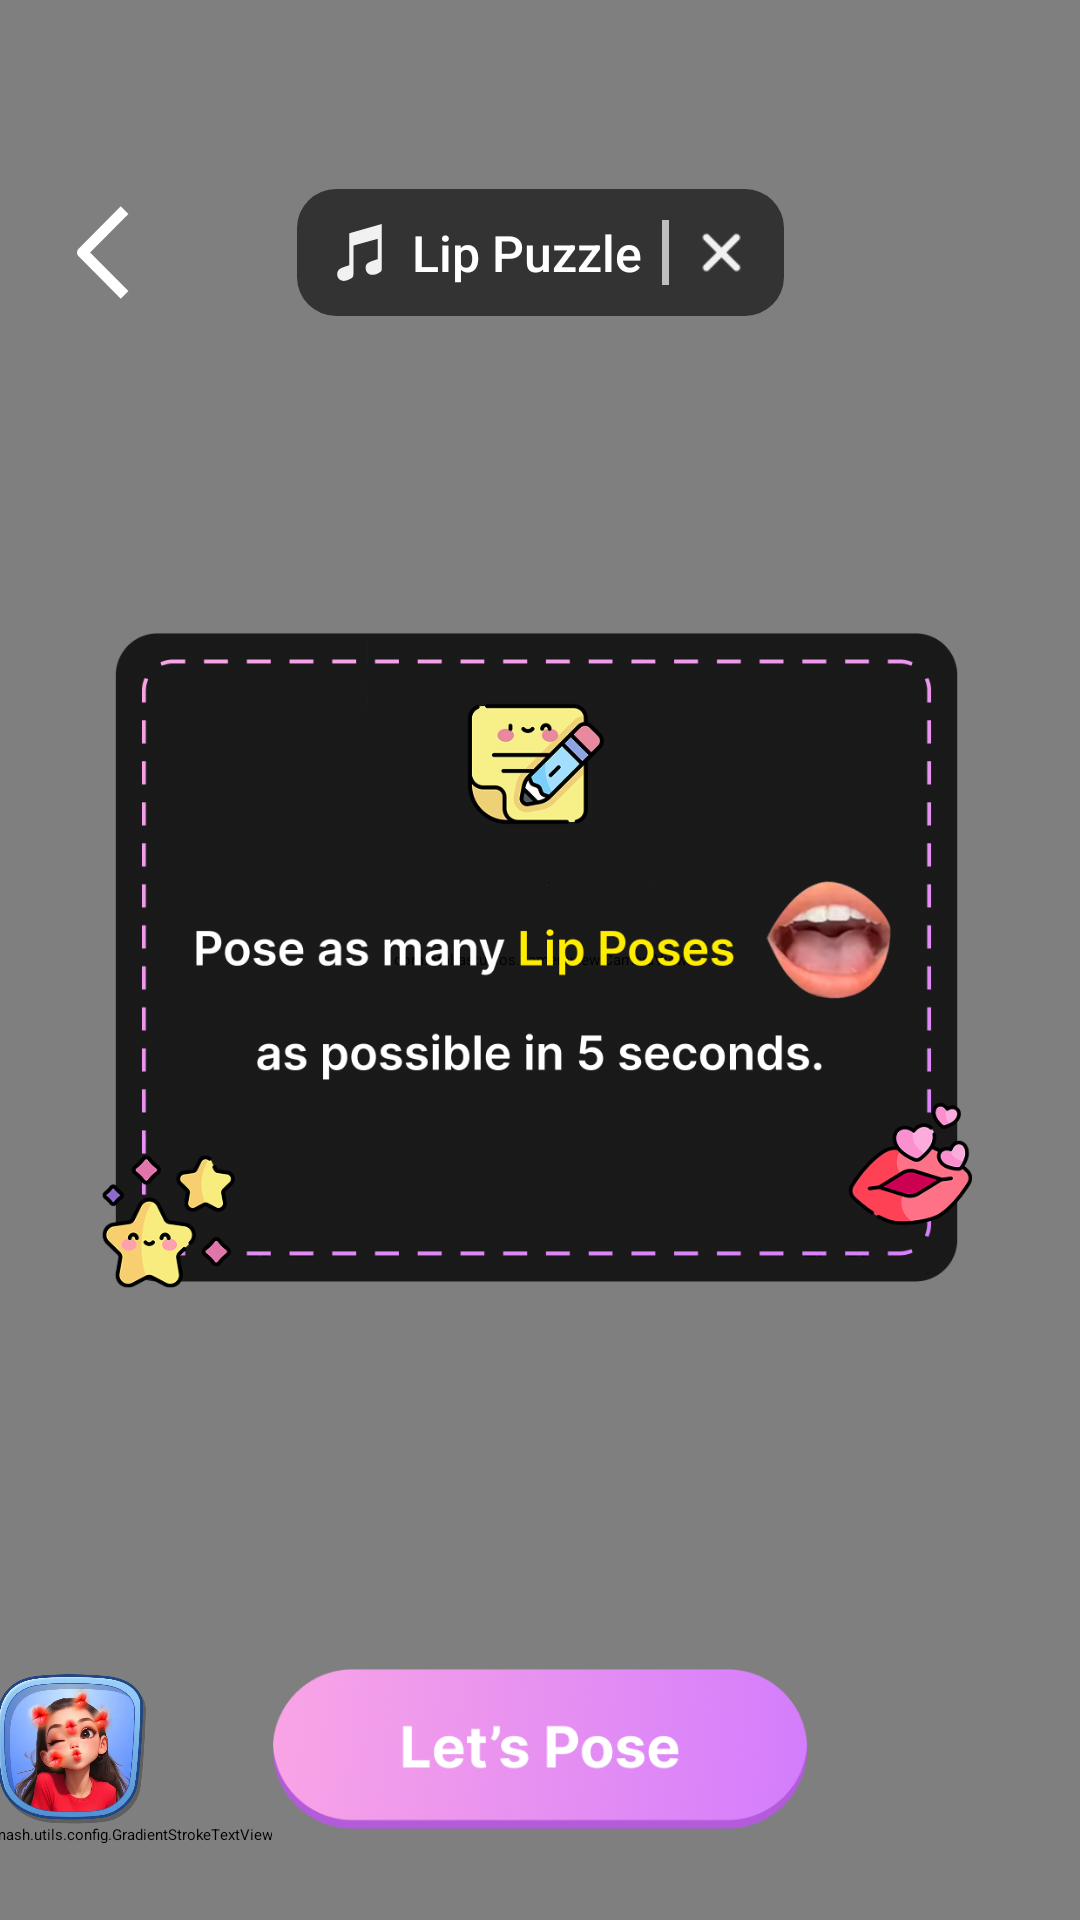

Where to tap for icons on this 1080x1920 app screen, as [x,y]:
back music: [102,252]
exit: [721,252]
music: [359,252]
